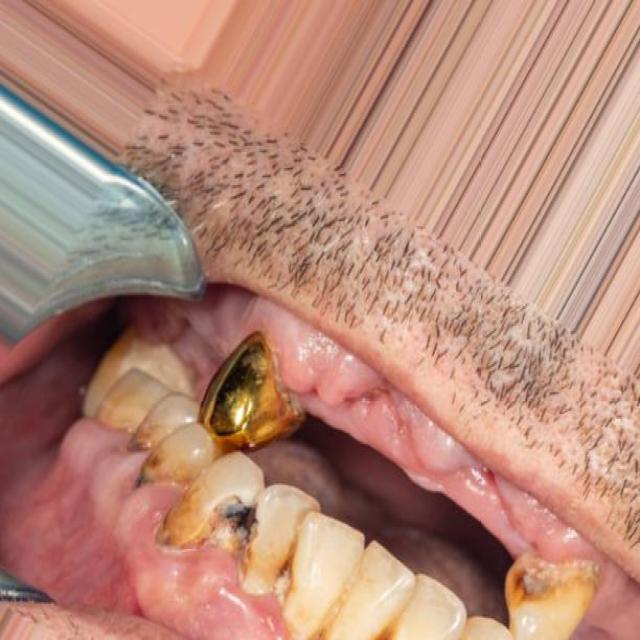caries: (504, 543, 598, 614), (206, 478, 268, 585), (263, 529, 305, 620)
